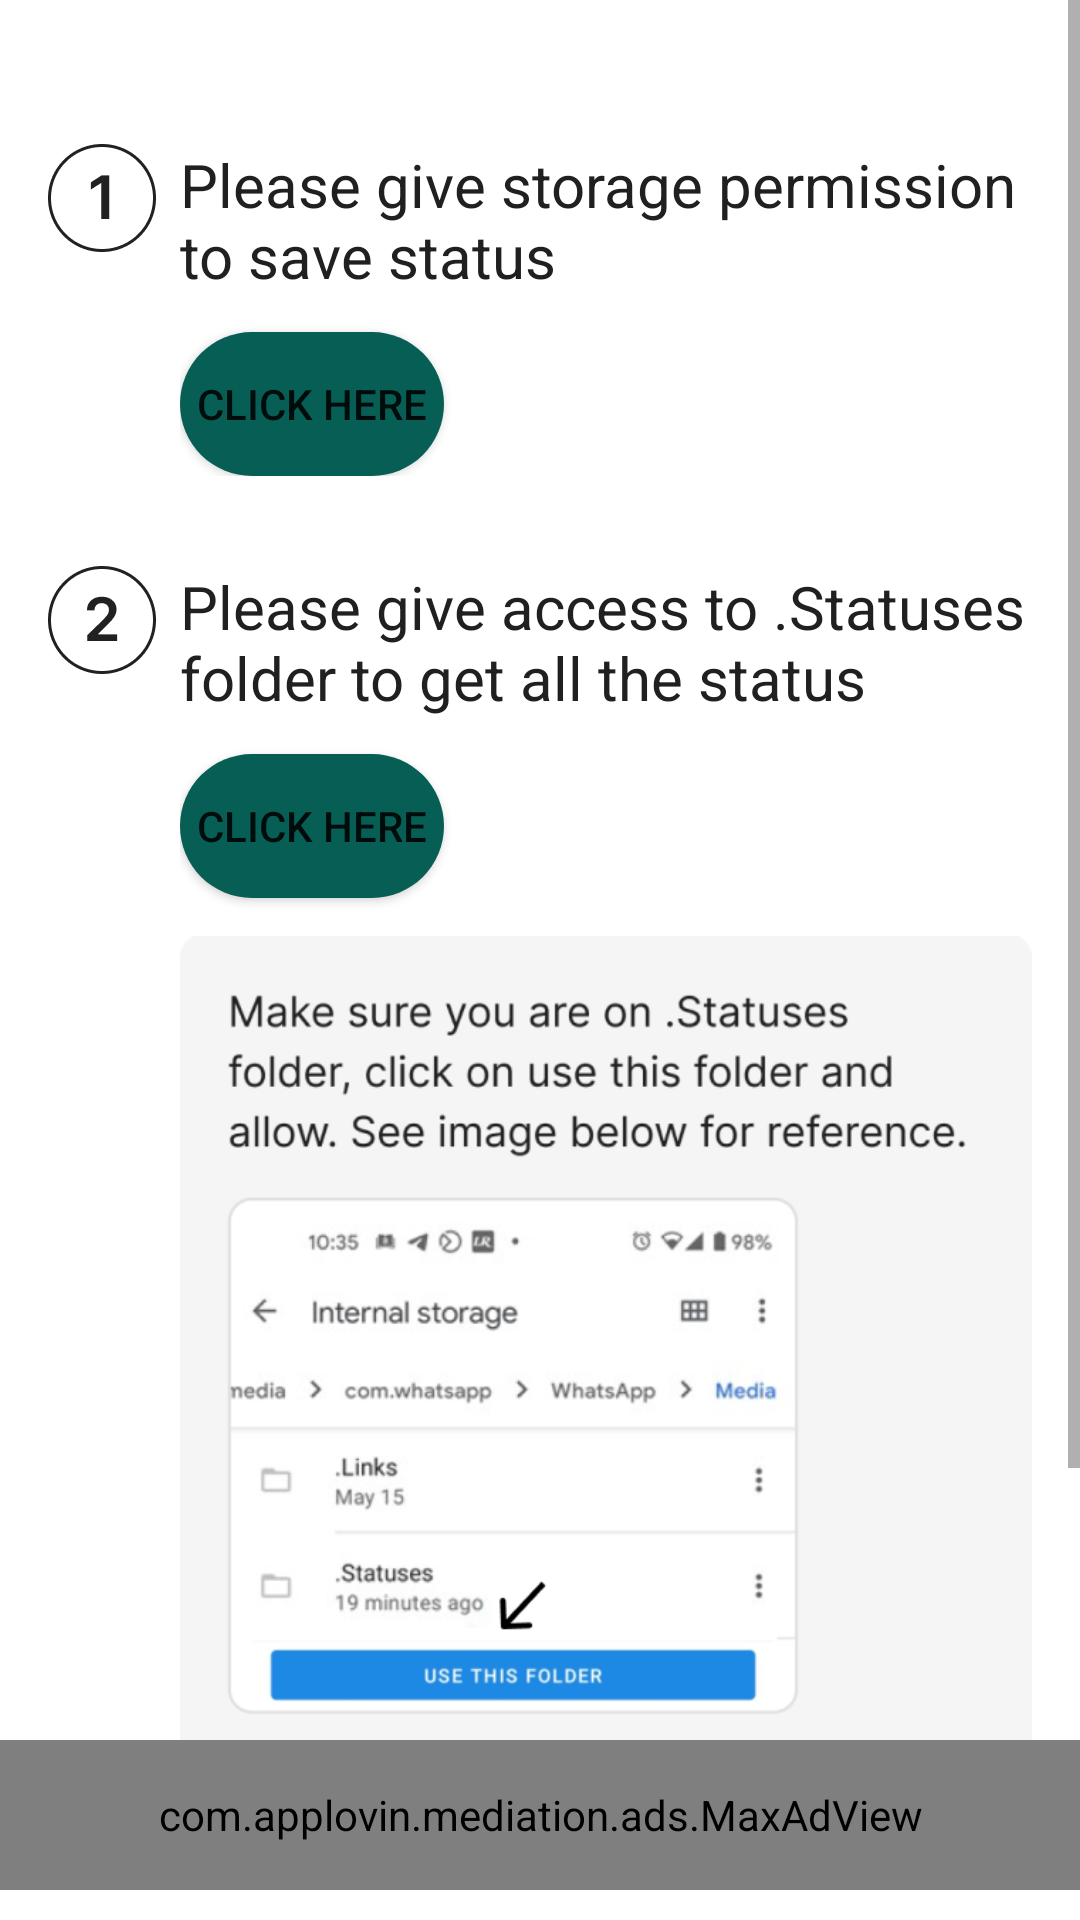

Screen size 1080w x 1920h. Icon name, then its center in pixels as [x,y]:
numberone: [102,198]
numbertwo: [102,620]
